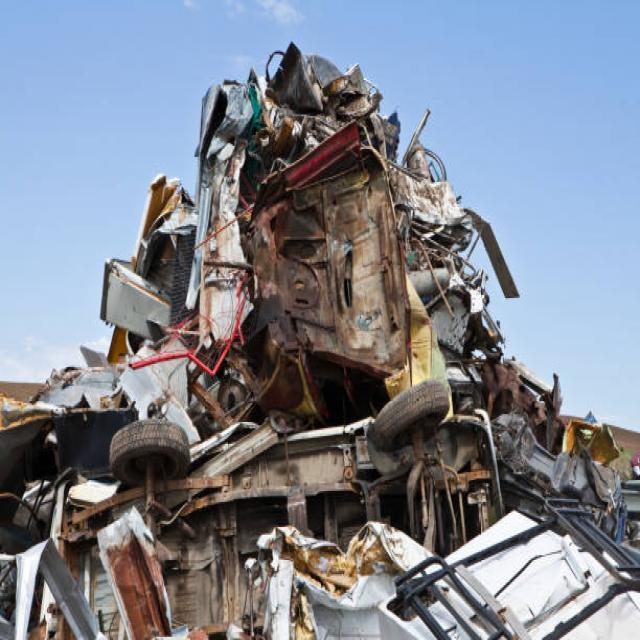metal: (42, 78, 598, 607)
